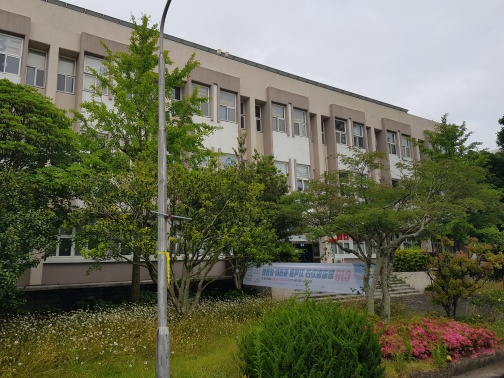Main Building of University: (58, 8, 479, 293), (183, 44, 413, 185)
